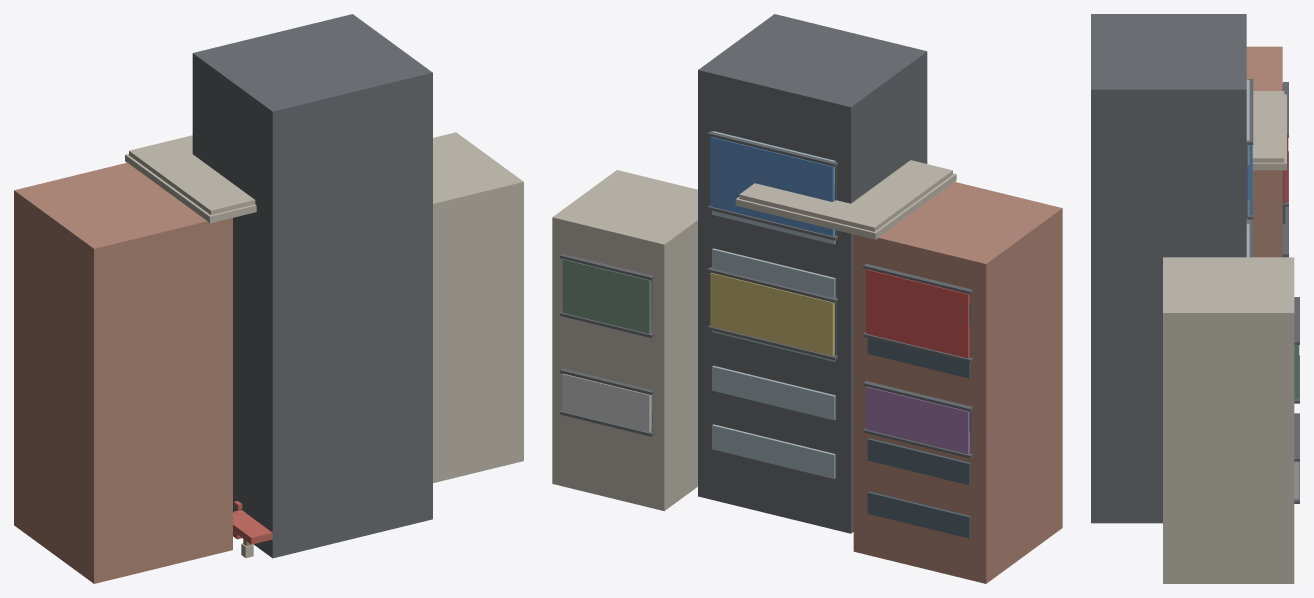
Rendered from timesquare.glb.
3 views of the same model, side by side, from view 1: azimuth 30°, elevation 25°; view 2: azimuth 150°, elevation 25°; view 3: azimuth 270°, elevation 25° (orthographic). The views are drawn at different scales.
Parts seen in each view (by area): view 1: Mesh; view 2: Mesh; view 3: Mesh.
Part boxes in pixels (bbox=[...]): Mesh: bbox=[14, 14, 523, 583]; Mesh: bbox=[552, 14, 1062, 583]; Mesh: bbox=[1091, 14, 1299, 583].
Size of the model in its own units: 84 by 80 by 34.9.
